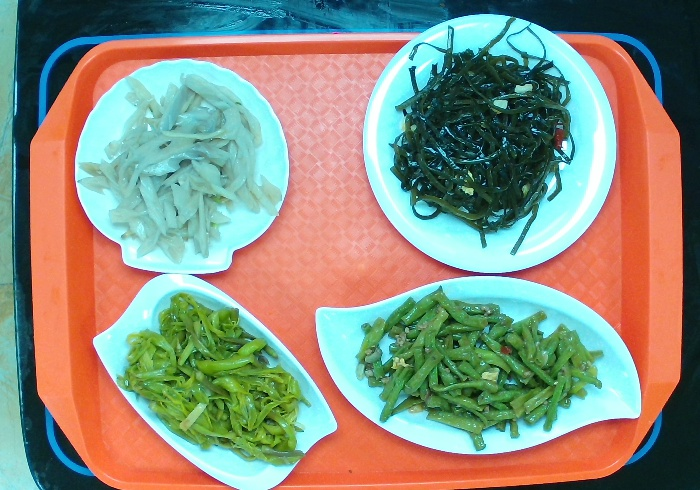RJxy-Bei_Ke_Wan: (76, 59, 295, 281)
RJxy-Jian_Jiao_Fang_Die: (87, 270, 342, 490)
RJxy-Jian_Jiao_Pan: (312, 273, 647, 454)
RJxy-Yuan_Pan: (354, 10, 623, 278)
